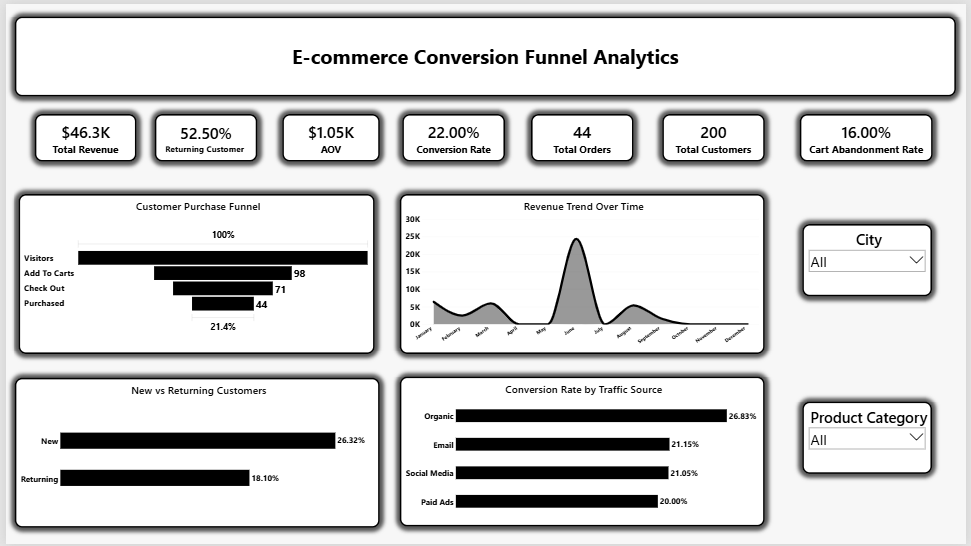

The dashboard page shown, as its layout file describes it:
{"tool":"powerbi","page":{"name":"Executive Overview","canvas":[3840,2160],"ordinal":0},"visuals":[{"type":"textbox","box":[320,47.5,1472.5,92.5],"z":0},{"type":"card","fields":{"Values":["ecommerce_Cleaned_data.Total Revenue"]},"box":[116.9,441.5,406.9,190.4],"z":1000},{"type":"shape","box":[35,50,3765,320],"z":2000},{"type":"card","fields":{"Values":["ecommerce_Cleaned_data.Total Customers"]},"box":[2625,440,410,190],"z":3000},{"type":"card","fields":{"Values":["ecommerce_Cleaned_data.Total Orders"]},"box":[2100,440,410,190],"z":4000},{"type":"card","fields":{"Values":["ecommerce_Cleaned_data.Conversion Rate"]},"box":[1584.2,441.5,411.2,190.4],"z":5000},{"type":"card","fields":{"Values":["ecommerce_Cleaned_data.Average Order Value"]},"box":[1105,440,390,190],"z":6000},{"type":"card","fields":{"Values":["ecommerce_Cleaned_data.Returning Customer %"]},"box":[595,440,410,190],"z":7000},{"type":"funnel","title":"Customer Purchase Funnel","fields":{"Category":["Funnel_Data.Stage"],"Y":["Sum(Funnel_Data.Users)"]},"box":[50,760,1425,640],"z":8000},{"type":"areaChart","title":"Revenue Trend Over Time","fields":{"Category":["ecommerce_Cleaned_data.visit_date.Variation.Date Hierarchy.Month"],"Y":["Sum(ecommerce_Cleaned_data.revenue)"]},"box":[1575,760,1460,640],"z":9000},{"type":"clusteredBarChart","title":"Conversion Rate by Traffic Source","fields":{"Category":["ecommerce_Cleaned_data.traffic_source"],"Y":["ecommerce_Cleaned_data.Conversion Rate"]},"box":[1575,1490,1460,600],"z":10000},{"type":"barChart","title":"New vs Returning Customers","fields":{"Category":["ecommerce_Cleaned_data.customer_type"],"Y":["ecommerce_Cleaned_data.Conversion Rate"]},"box":[35,1495,1460,600],"z":11000},{"type":"slicer","title":"City","fields":{"Values":["ecommerce_Cleaned_data.city"]},"box":[3185.6,878.6,519.4,290],"z":12000},{"type":"slicer","title":"Product Category","fields":{"Values":["ecommerce_Cleaned_data.product_category"]},"box":[3185.6,1588.5,519.4,290],"z":13000},{"type":"card","fields":{"Values":["ecommerce_Cleaned_data.Cart Abandonment Rate"]},"box":[3172.6,441.5,532.4,190.4],"z":14000}]}

Visuals, with their boxes in screenshot pixels (x1, y1, x2, y2), scaled from the page's 3840x2160 canvas onto the 971x546 screenshot:
textbox: 81,12,453,35
card - ecommerce_Cleaned_data.Total Revenue: 30,112,132,160
shape: 9,13,961,94
card - ecommerce_Cleaned_data.Total Customers: 664,111,767,159
card - ecommerce_Cleaned_data.Total Orders: 531,111,635,159
card - ecommerce_Cleaned_data.Conversion Rate: 401,112,505,160
card - ecommerce_Cleaned_data.Average Order Value: 279,111,378,159
card - ecommerce_Cleaned_data.Returning Customer %: 150,111,254,159
"Customer Purchase Funnel" funnel: 13,192,373,354
"Revenue Trend Over Time" areaChart: 398,192,767,354
"Conversion Rate by Traffic Source" clusteredBarChart: 398,377,767,528
"New vs Returning Customers" barChart: 9,378,378,530
"City" slicer: 806,222,937,295
"Product Category" slicer: 806,402,937,475
card - ecommerce_Cleaned_data.Cart Abandonment Rate: 802,112,937,160
